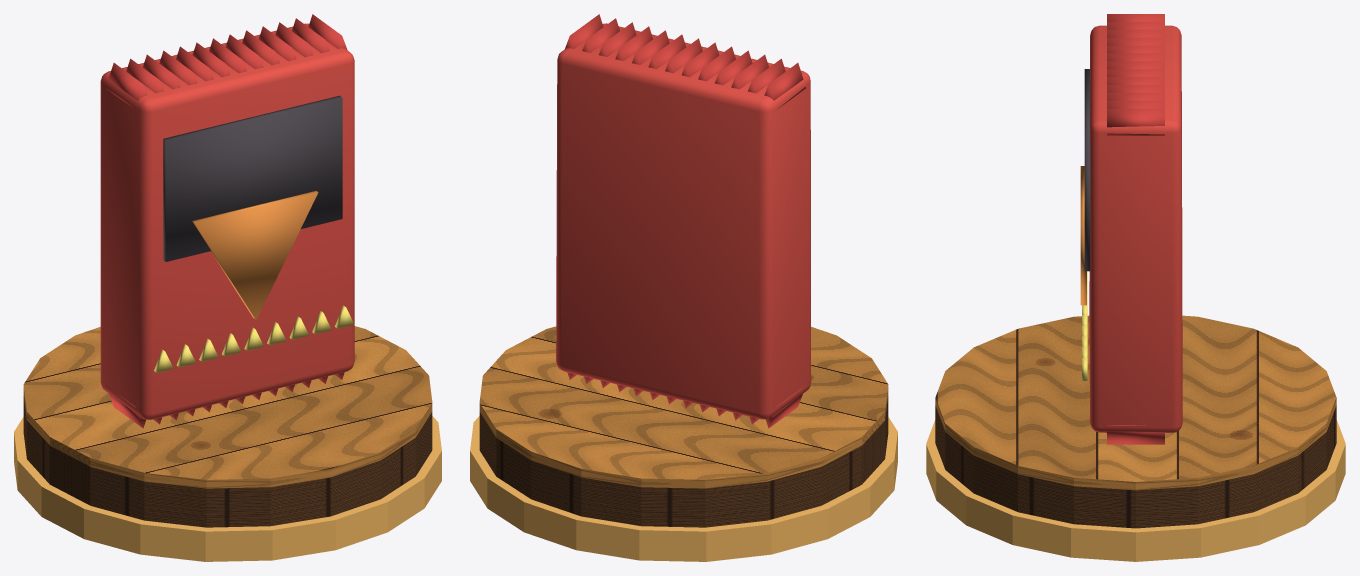
The model's file is SpicyChips.glb.
3 views of the same model, side by side, from view 1: azimuth 30°, elevation 25°; view 2: azimuth 150°, elevation 25°; view 3: azimuth 270°, elevation 25° (orthographic). The views are drawn at different scales.
Parts seen in each view (by area): view 1: SpicyChips, pedestal, rim; view 2: SpicyChips, pedestal, rim; view 3: pedestal, SpicyChips, rim.
Boxes of the visible parts, <box> form: SpicyChips: <box>100,14,354,428</box>; pedestal: <box>23,326,432,527</box>; rim: <box>14,416,441,561</box>; SpicyChips: <box>556,14,811,428</box>; pedestal: <box>479,326,888,527</box>; rim: <box>470,416,897,561</box>; pedestal: <box>935,315,1336,528</box>; SpicyChips: <box>1080,14,1182,444</box>; rim: <box>926,420,1345,561</box>.
Size of the model in its own units: 0.9 by 0.975 by 0.9.
Materials: 8 (2 with a texture image).
